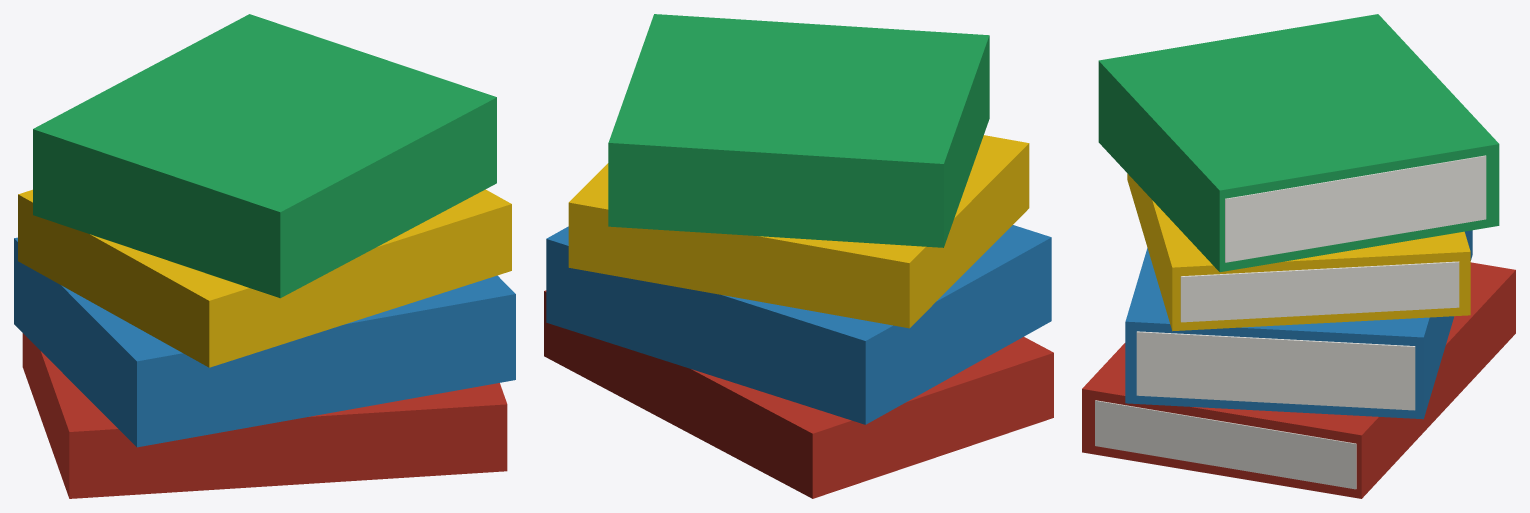
The model's file is chase_books.glb.
The picture shows the model from 3 angles, left to right: view 1: azimuth 30°, elevation 25°; view 2: azimuth 150°, elevation 25°; view 3: azimuth 270°, elevation 25°; orthographic projection. The views are drawn at different scales.
Parts seen in each view (by area): view 1: books_book_27ae60, books_book_2e86c1, books_book_f1c40f, books_book_c0392b; view 2: books_book_27ae60, books_book_2e86c1, books_book_c0392b, books_book_f1c40f; view 3: books_white, books_book_27ae60, books_book_c0392b, books_book_2e86c1, books_book_f1c40f.
Part boxes in pixels (bbox=[...]): books_book_27ae60: bbox=[33, 14, 496, 298]; books_book_2e86c1: bbox=[14, 237, 515, 447]; books_book_f1c40f: bbox=[18, 189, 511, 367]; books_book_c0392b: bbox=[22, 333, 507, 498]; books_book_27ae60: bbox=[608, 14, 989, 247]; books_book_2e86c1: bbox=[546, 225, 1051, 424]; books_book_c0392b: bbox=[544, 290, 1053, 498]; books_book_f1c40f: bbox=[568, 135, 1029, 328]; books_white: bbox=[1095, 155, 1486, 489]; books_book_27ae60: bbox=[1098, 14, 1499, 272]; books_book_c0392b: bbox=[1082, 262, 1515, 498]; books_book_2e86c1: bbox=[1125, 230, 1472, 419]; books_book_f1c40f: bbox=[1127, 173, 1470, 331].
Size of the model in its own units: 0.5007 by 0.32 by 0.433.
